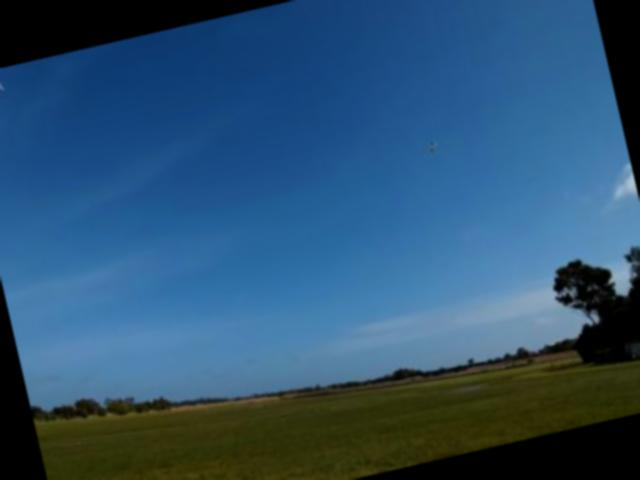uav: (422, 134, 445, 160)
